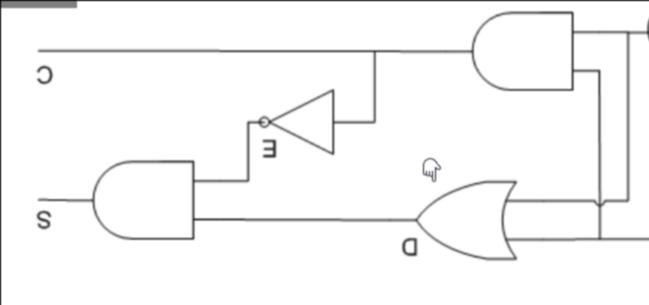and: (88, 148, 198, 246), (463, 6, 579, 95)
not: (255, 86, 340, 158)
or: (410, 178, 520, 267)
